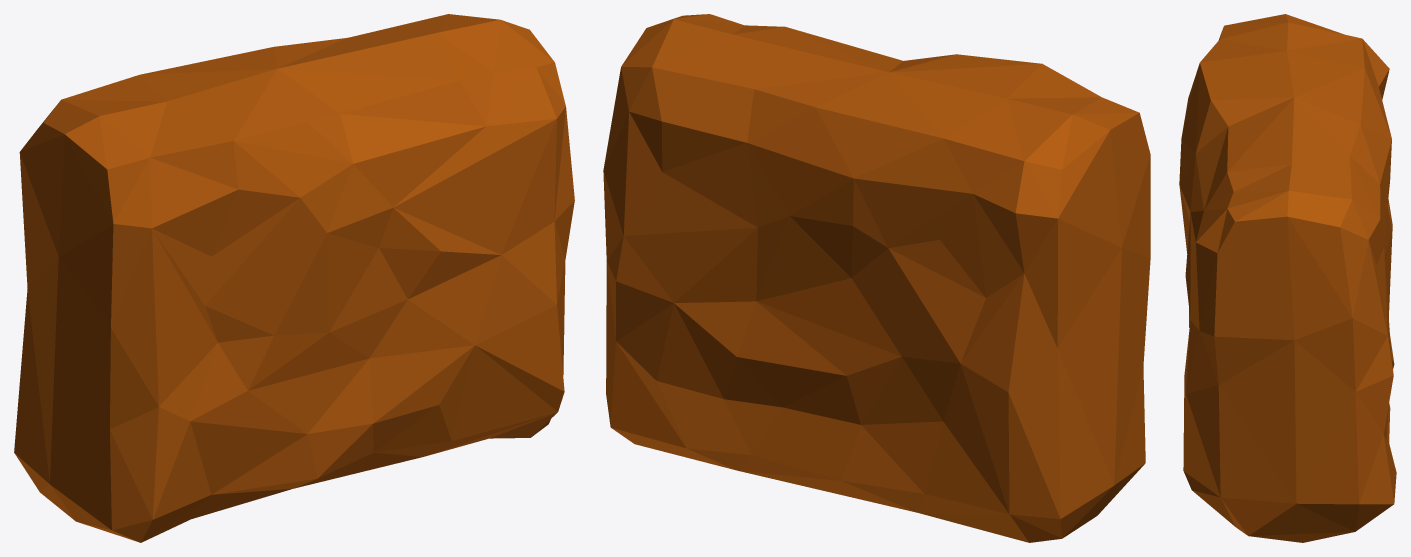
File: Door.fbx
The picture shows the model from 3 angles, left to right: view 1: azimuth 30°, elevation 25°; view 2: azimuth 150°, elevation 25°; view 3: azimuth 270°, elevation 25°; orthographic projection. The views are drawn at different scales.
Parts seen in each view (by area): view 1: Door; view 2: Door; view 3: Door.
Part boxes in pixels (<box>): Door: <box>14,14,574,542</box>; Door: <box>603,14,1150,542</box>; Door: <box>1179,14,1396,542</box>.
Bounding box in the file's own units: 1336 × 1103 × 608.
